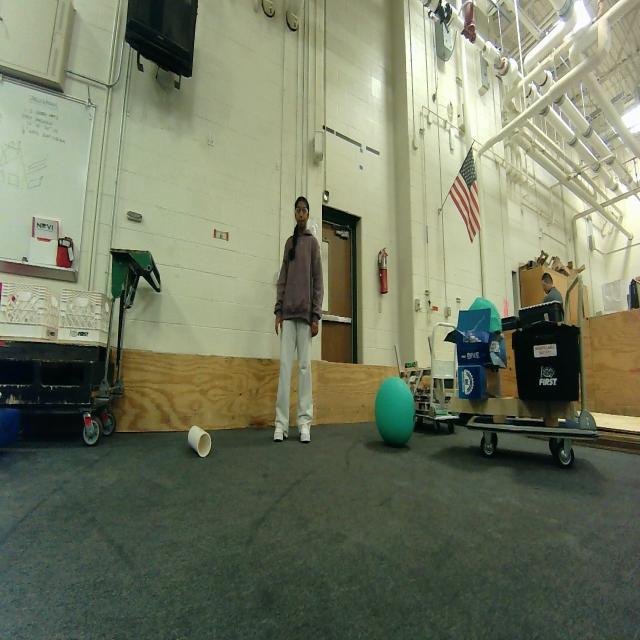algae: (375, 377, 415, 447)
